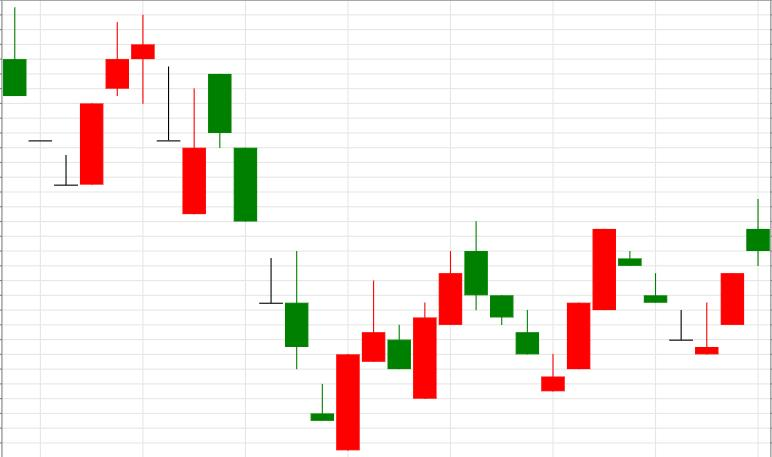bullish_engulfing_rise: (209, 75, 359, 450)
three_white_soldiers_rise: (465, 221, 616, 391)
